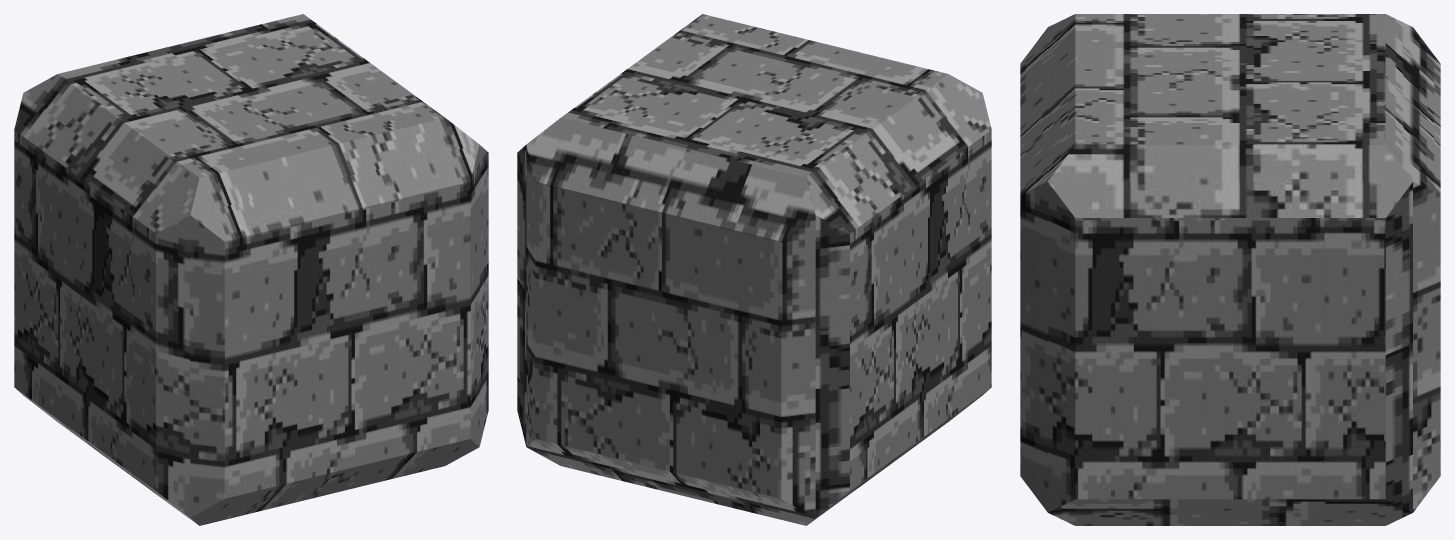
The model's file is Block_03.fbx.
The picture shows the model from 3 angles, left to right: view 1: azimuth 30°, elevation 25°; view 2: azimuth 150°, elevation 25°; view 3: azimuth 270°, elevation 25°; orthographic projection. The views are drawn at different scales.
Visible parts, largest first — view 1: Block; view 2: Block; view 3: Block.
Boxes of the visible parts, x1,y1,x2,y2 form: Block: [14, 14, 488, 525]; Block: [517, 14, 991, 525]; Block: [1020, 14, 1440, 525].
Size of the model in its own units: 230 by 230 by 230.
